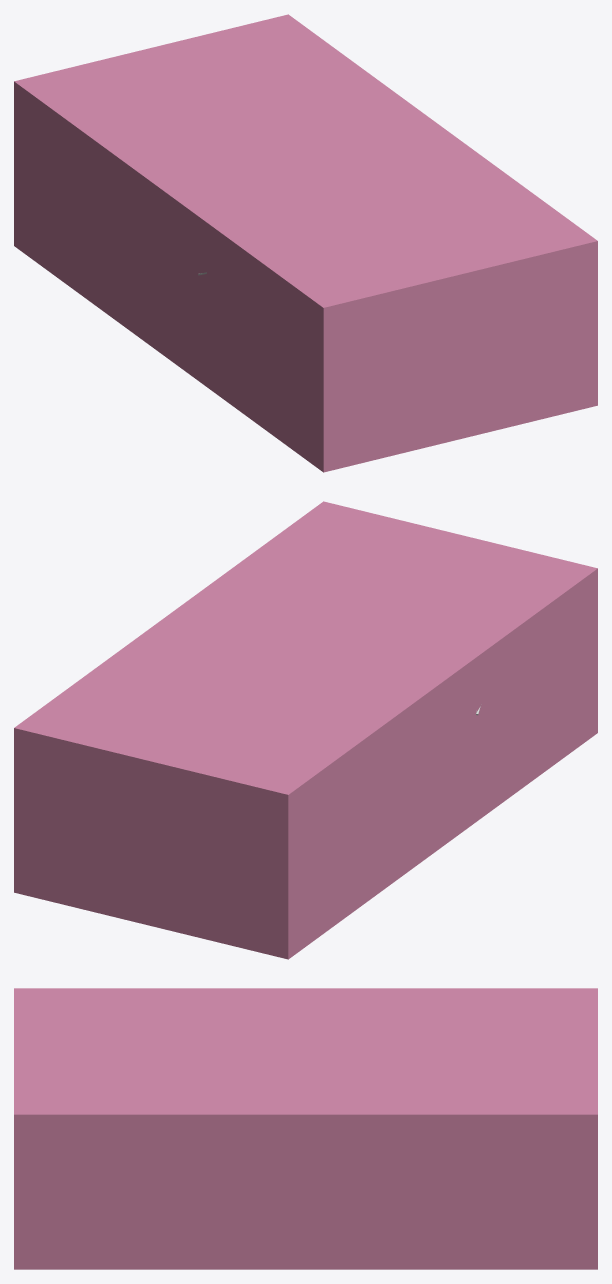
Rendered from ind_bld_01b.dae.
3 views of the same model, one above another, from view 1: azimuth 30°, elevation 25°; view 2: azimuth 150°, elevation 25°; view 3: azimuth 270°, elevation 25° (orthographic). The views are drawn at different scales.
Parts seen in each view (by area): view 1: Untitled; view 2: Untitled; view 3: Untitled.
Part boxes in pixels (<box>): Untitled: <box>14,14,597,472</box>; Untitled: <box>14,501,597,959</box>; Untitled: <box>14,988,597,1269</box>.
Size of the model in its own units: 21.43 by 41.42 by 12.15.
